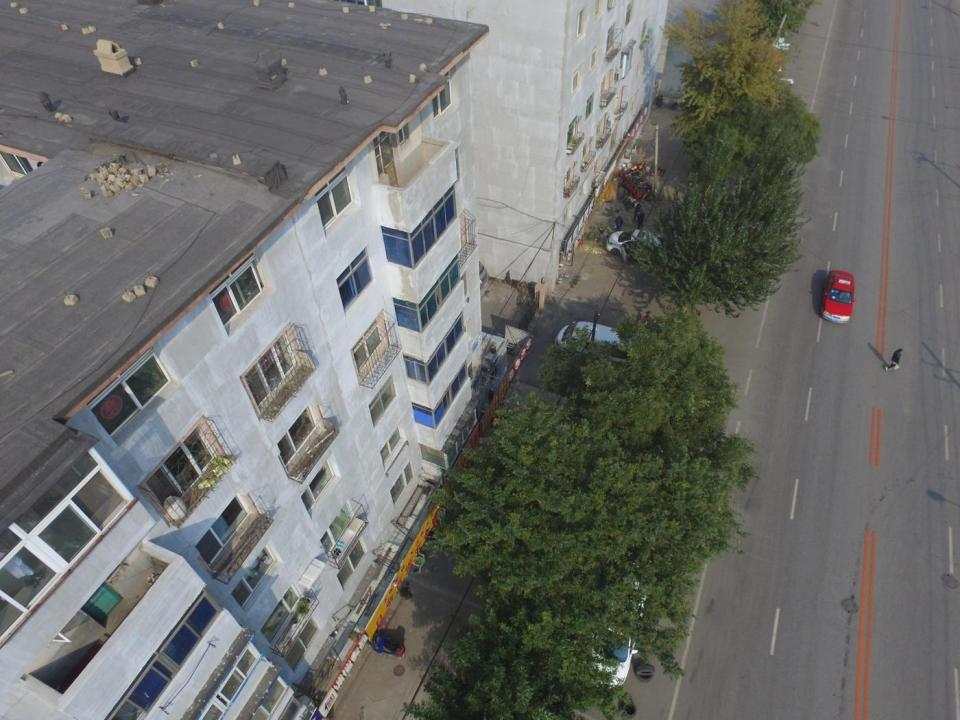car: (582, 559, 646, 690), (605, 229, 674, 267), (821, 268, 857, 323)
van: (553, 320, 653, 368)
